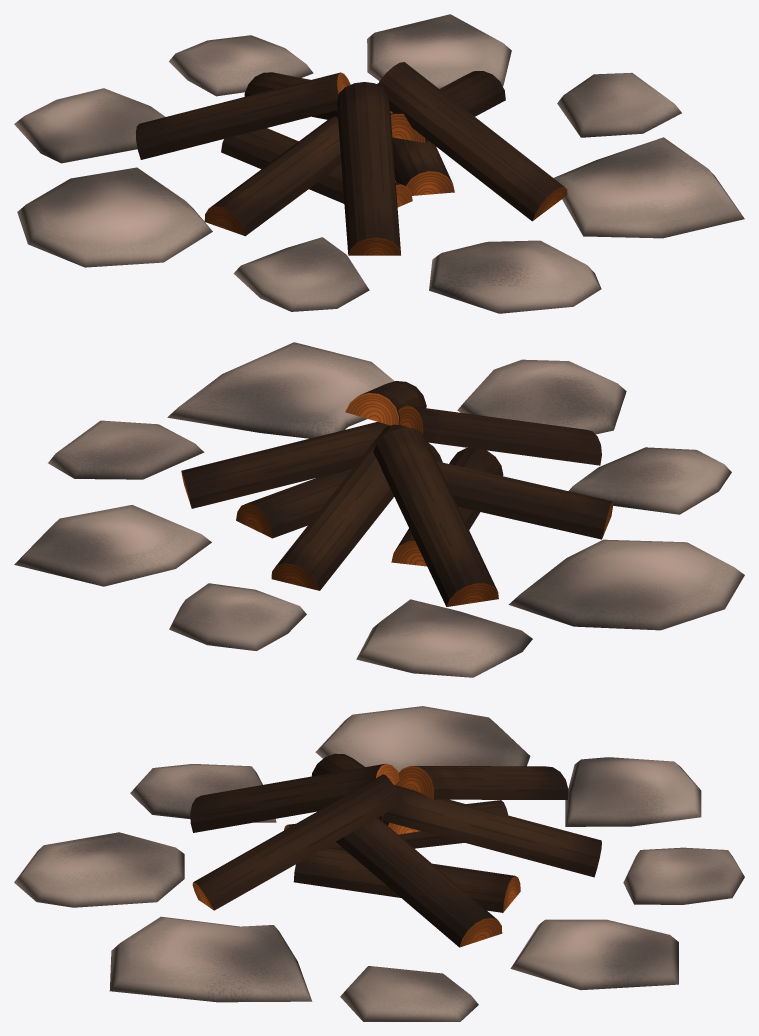
The model's file is FOGUEIRA.fbx.
3 renders of one model, top to bottom at view 1: azimuth 30°, elevation 25°; view 2: azimuth 150°, elevation 25°; view 3: azimuth 270°, elevation 25°, orthographic. The views are drawn at different scales.
Visible parts, largest first — view 1: pedras, madeiras; view 2: pedras, madeiras; view 3: pedras, madeiras.
Part boxes in pixels (x1=…): pedras: x1=14, y1=14, x2=744, y2=313; madeiras: x1=135, y1=62, x2=567, y2=255; pedras: x1=14, y1=342, x2=744, y2=677; madeiras: x1=181, y1=381, x2=613, y2=606; pedras: x1=14, y1=706, x2=744, y2=1021; madeiras: x1=190, y1=753, x2=601, y2=947.
Size of the model in its own units: 331 by 54.17 by 329.
Materials: 2 (2 with a texture image).
